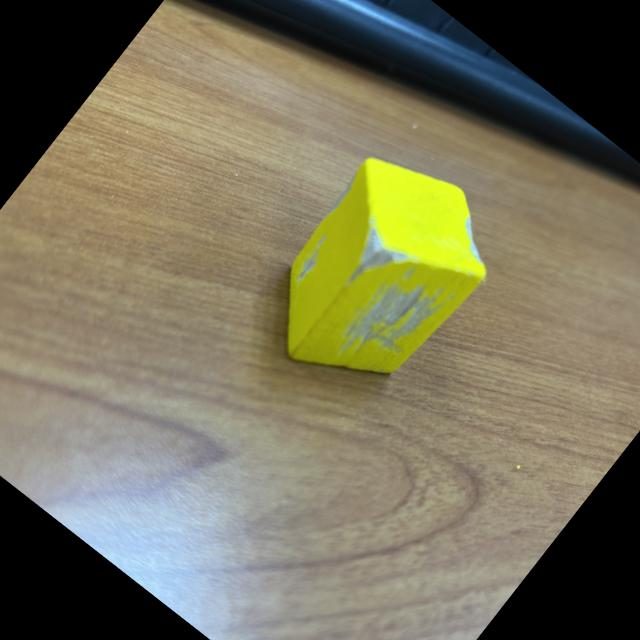broken: (240, 130, 521, 424)
